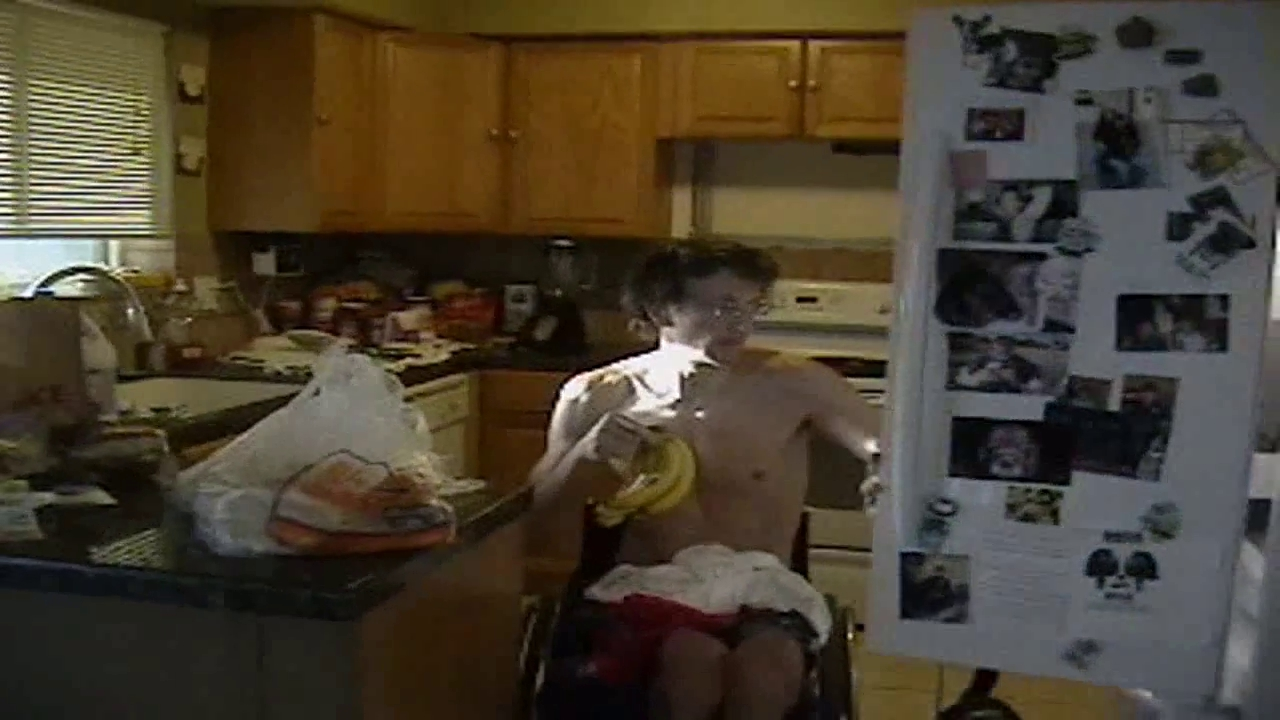person: (525, 237, 884, 720)
